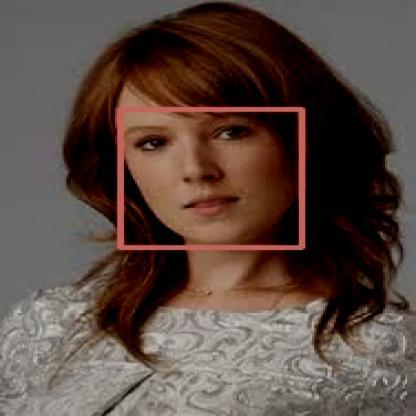without_mask: (119, 109, 301, 247)
